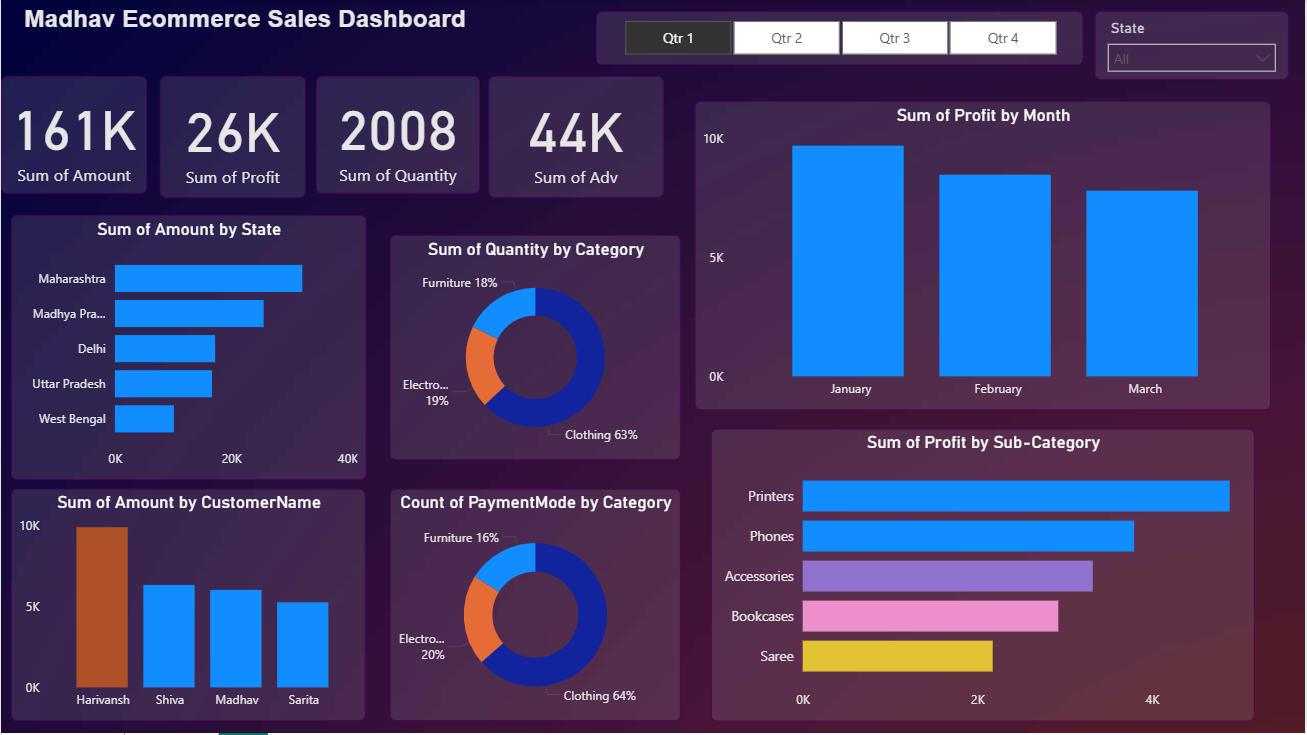

The page's visual inventory and layout, read from the dashboard file:
{"tool":"powerbi","page":{"name":"Page 1","canvas":[1280,720],"ordinal":0},"visuals":[{"type":"textbox","box":[9.6,0,459.7,57.6],"z":0},{"type":"columnChart","fields":{"Category":["Orders.Order Date.Variation.Date Hierarchy.Month"],"Y":["Sum(Details.Profit)"]},"box":[681,99.4,565.6,303.1],"z":1000},{"type":"clusteredBarChart","fields":{"Category":["Details.Sub-Category"],"Y":["Sum(Details.Profit)"]},"box":[696.9,420.9,533.7,287.1],"z":2000},{"type":"donutChart","fields":{"Category":["Details.Category"],"Y":["Sum(Details.Quantity)"]},"box":[381.6,230.7,285.9,220.9],"z":3000},{"type":"donutChart","fields":{"Category":["Details.Category"],"Y":["CountNonNull(Details.PaymentMode)"]},"box":[381.6,479.8,285.9,228.2],"z":4000},{"type":"card","fields":{"Values":["Sum(Details.Amount)"]},"box":[0,74.8,143.6,115.3],"z":5000},{"type":"card","fields":{"Values":["Sum(Details.Profit)"]},"box":[155.8,74.8,143.6,119],"z":6000},{"type":"card","fields":{"Values":["Sum(Details.Quantity)"]},"box":[309.2,74.8,160.7,115.3],"z":7000},{"type":"card","fields":{"Values":["Sum(Details.Adv)"]},"box":[478.5,74.8,171.8,119],"z":8000},{"type":"clusteredBarChart","fields":{"Category":["Orders.State"],"Y":["Sum(Details.Amount)"]},"box":[9.8,211,348.5,260.1],"z":9000},{"type":"columnChart","fields":{"Category":["Orders.CustomerName"],"Y":["Sum(Details.Amount)"]},"box":[10,480,348,228],"z":10000},{"type":"slicer","fields":{"Values":["Orders.Order Date.Variation.Date Hierarchy.Quarter"]},"box":[584.1,11,478.5,52.8],"z":11000},{"type":"slicer","fields":{"Values":["Orders.State"]},"box":[1073.6,11,190.2,67.5],"z":12000}]}

Visuals, with their boxes in screenshot pixels (x1, y1, x2, y2), scaled from the page's 1280x720 canvas onto the 1307x735 screenshot:
textbox: 10:0:479:59
columnChart - Orders.Order Date.Variation.Date Hierarchy.Month x Sum(Details.Profit): 695:101:1273:411
clusteredBarChart - Details.Sub-Category x Sum(Details.Profit): 712:430:1257:723
donutChart - Details.Category x Sum(Details.Quantity): 390:236:682:461
donutChart - Details.Category x CountNonNull(Details.PaymentMode): 390:490:682:723
card - Sum(Details.Amount): 0:76:147:194
card - Sum(Details.Profit): 159:76:306:198
card - Sum(Details.Quantity): 316:76:480:194
card - Sum(Details.Adv): 489:76:664:198
clusteredBarChart - Orders.State x Sum(Details.Amount): 10:215:366:481
columnChart - Orders.CustomerName x Sum(Details.Amount): 10:490:366:723
slicer - Orders.Order Date.Variation.Date Hierarchy.Quarter: 596:11:1085:65
slicer - Orders.State: 1096:11:1290:80
